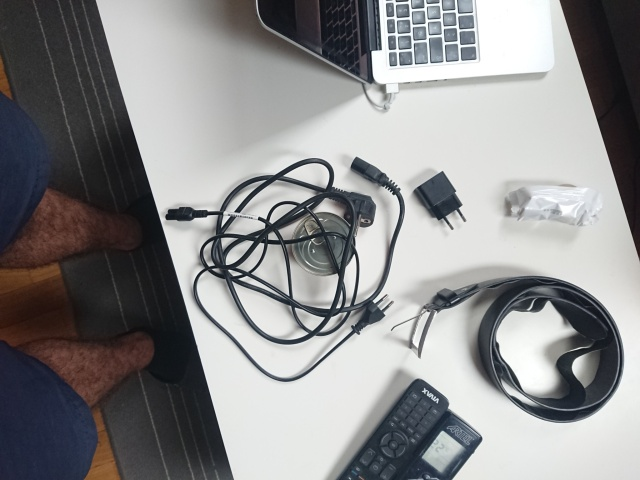Podravka Luncheon Meat 150g: (287, 209, 358, 279)
